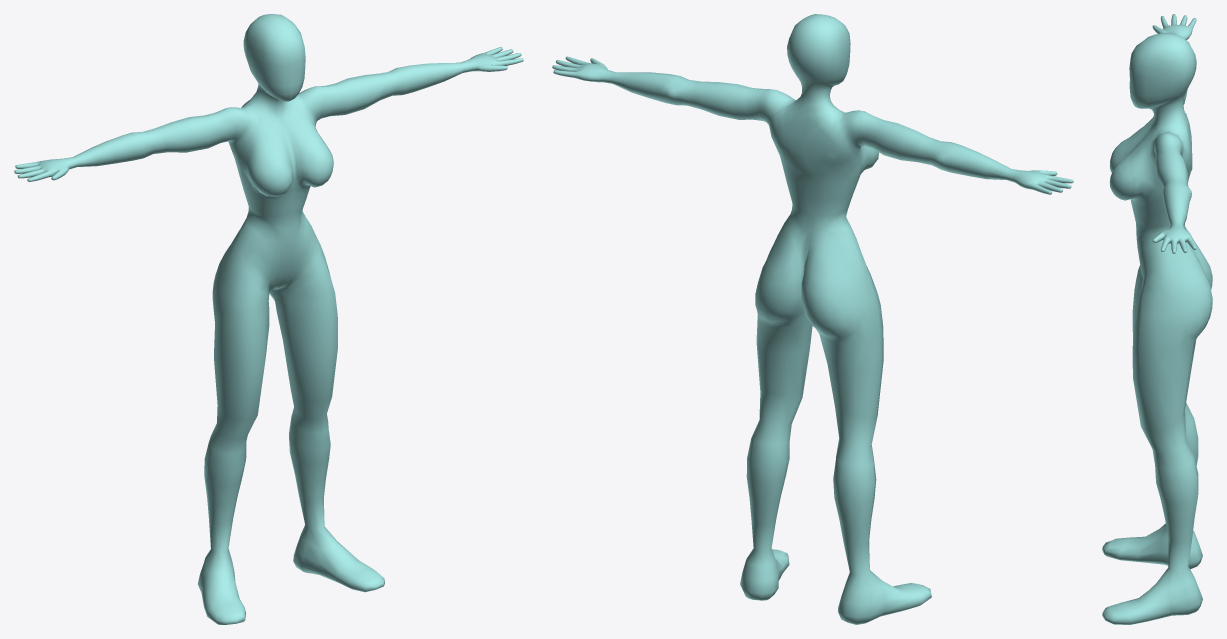
The model's file is female_base_mesh_t_pose.glb.
3 views of the same model, side by side, from view 1: azimuth 30°, elevation 25°; view 2: azimuth 150°, elevation 25°; view 3: azimuth 270°, elevation 25° (orthographic). The views are drawn at different scales.
Parts seen in each view (by area): view 1: Plane.001; view 2: Plane.001; view 3: Plane.001.
Part boxes in pixels (<box>): Plane.001: <box>14,14,523,624</box>; Plane.001: <box>552,14,1073,624</box>; Plane.001: <box>1102,14,1212,624</box>.
Bounding box in the file's own units: 1065 × 1155 × 209.
